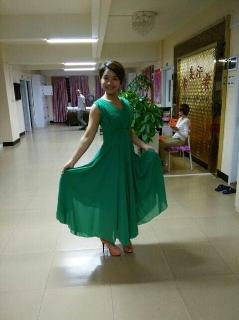long sleeve top: (172, 117, 191, 142)
trousers: (159, 135, 185, 163)
vest: (57, 97, 169, 247)
